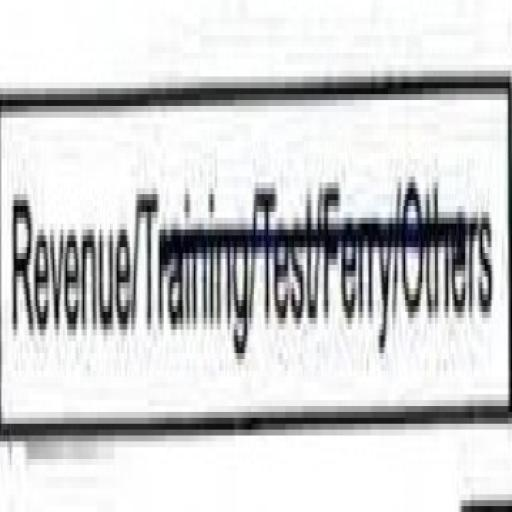check: (0, 16, 134, 512)
